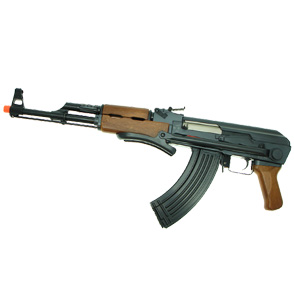rifle: (6, 68, 290, 235)
